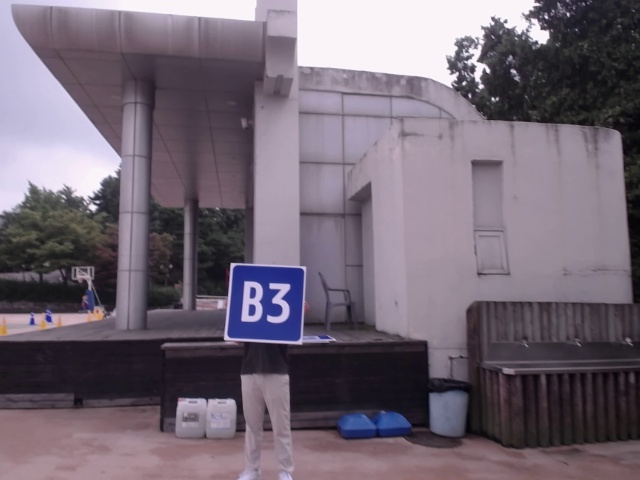delivery_b3: (227, 266, 306, 342)
